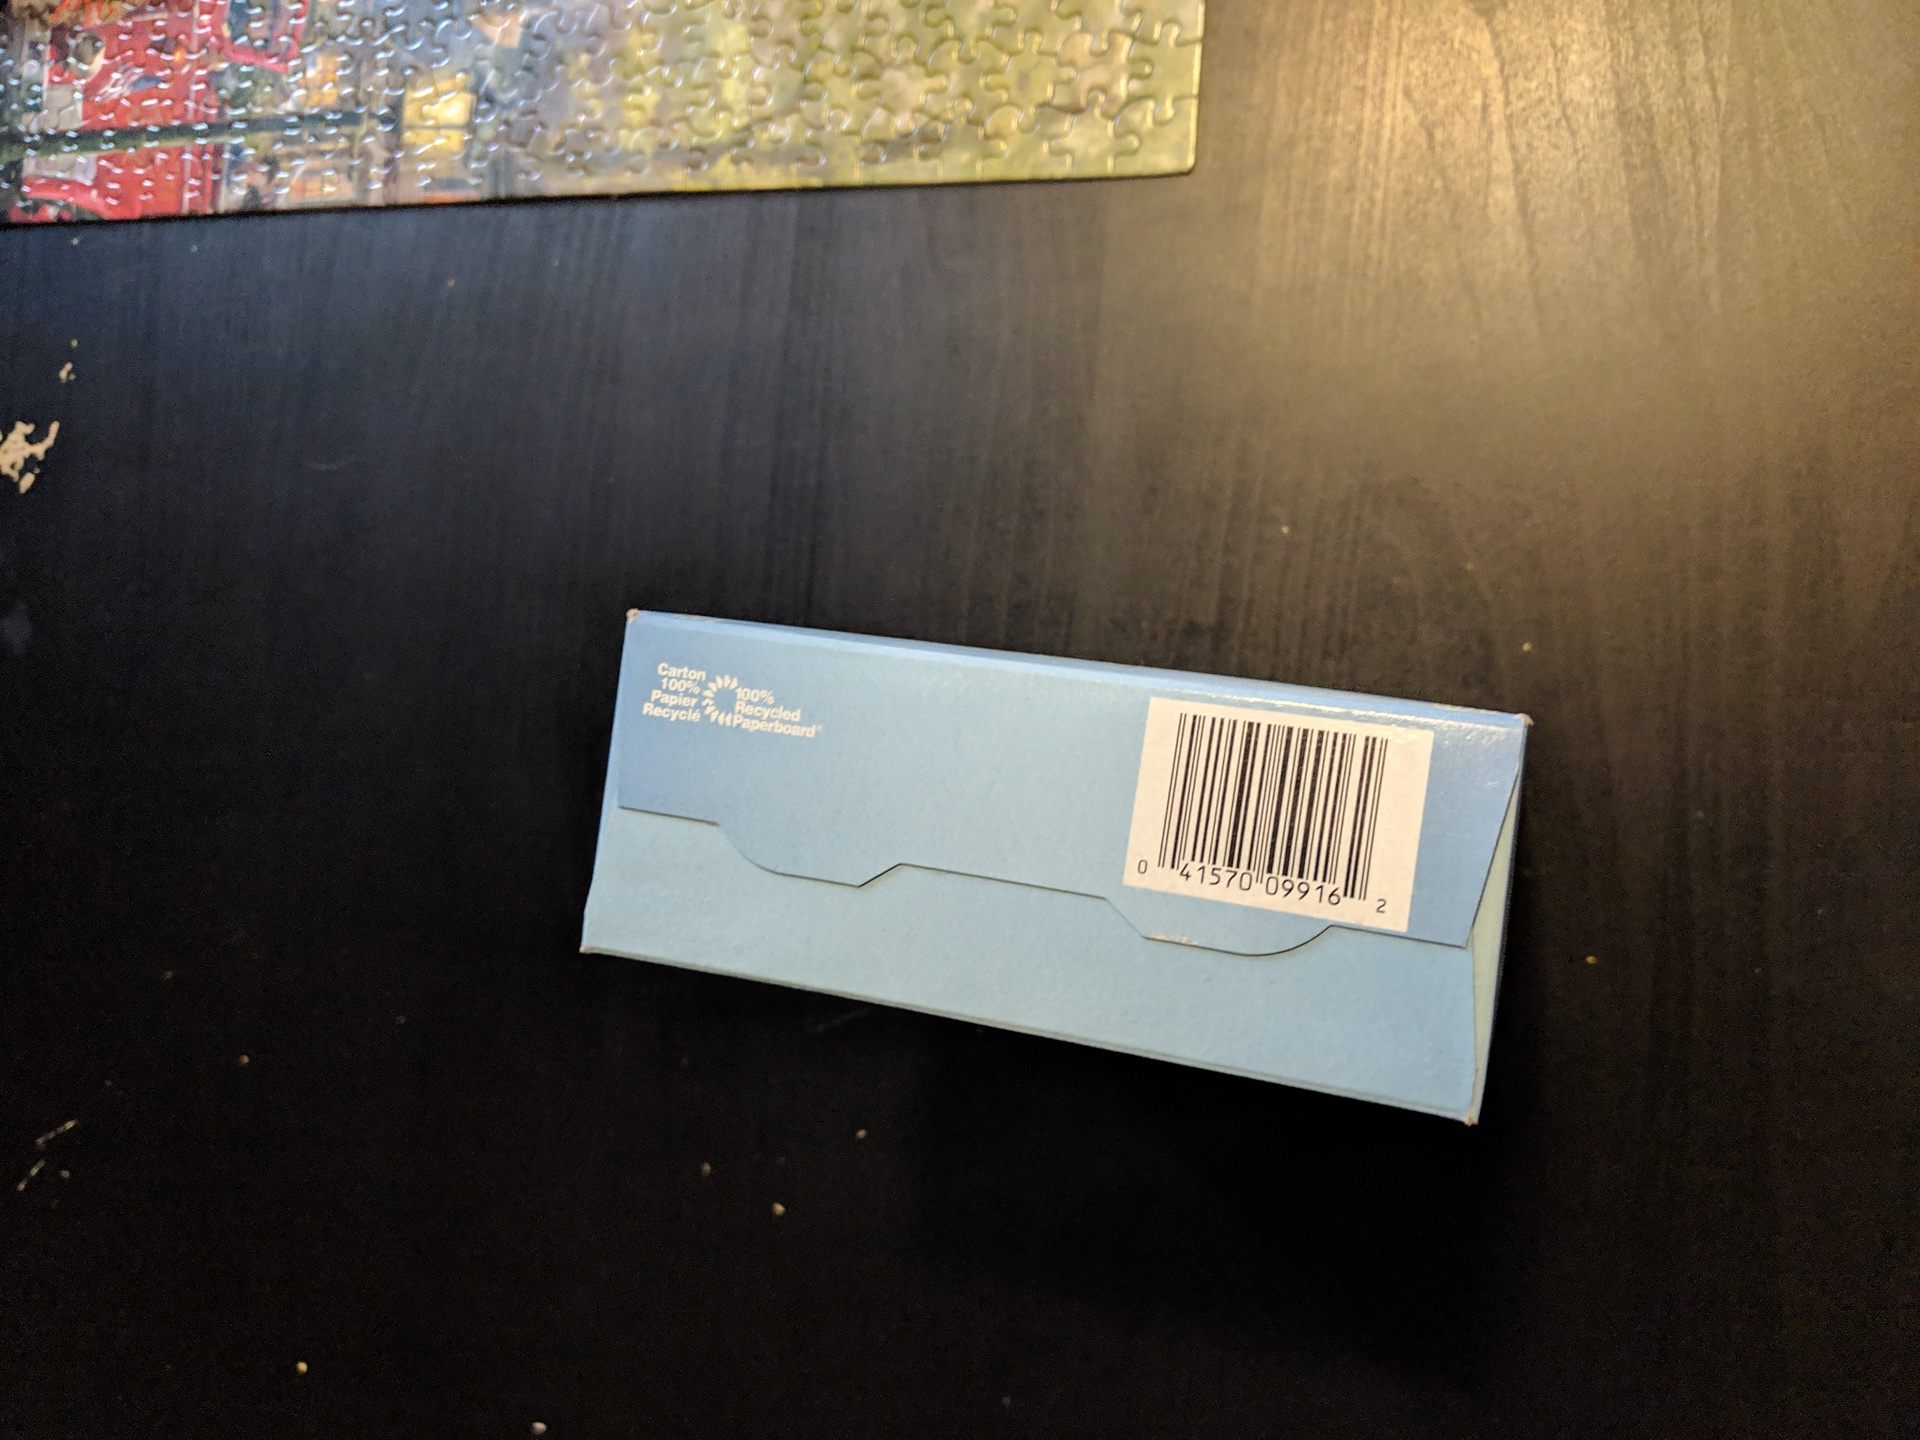blue_diamond_nut_thins_almond_seasalt: (618, 622, 1522, 1116)
